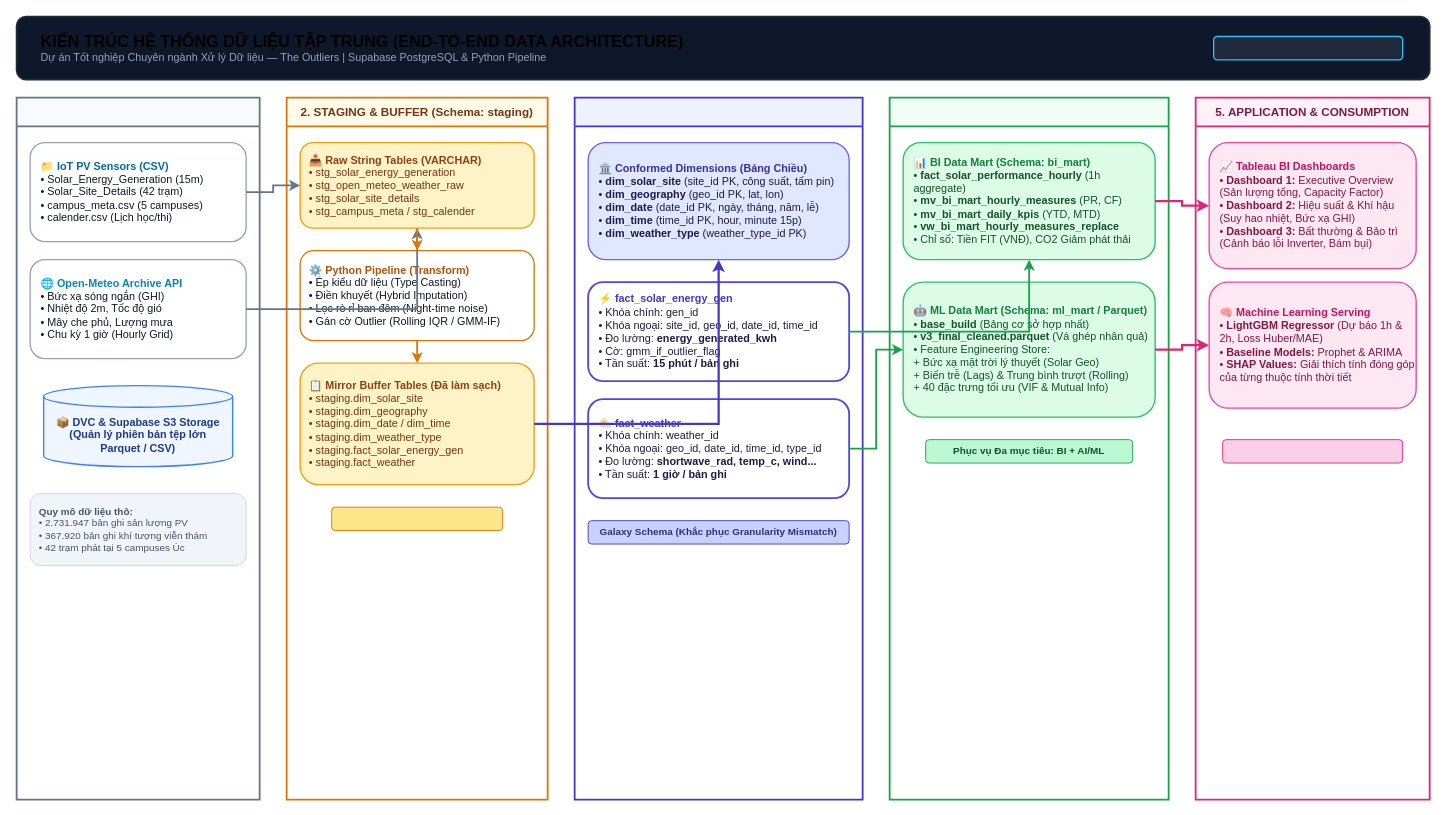
The diagram is 1445 pixels wide and 815 high, and some of its shapes have lost their labels. The shapes that lost their labels are listed below. From the top down, each one's box as (x1, y1, x2, y2) in pixels, then its label:
(1213, 35, 1403, 60): GALAXY SCHEMA & DUAL MARTS
(15, 96, 260, 800): 1. RAW DATA (Nguồn Dữ Liệu Thô)
(573, 96, 863, 800): 3. DATA WAREHOUSE (Schema: datawarehouse)
(888, 96, 1169, 800): 4. DATA MART LAYER (Schema: bi_mart & ml_mart)
(1222, 439, 1403, 463): Giám sát & Bảo trì dự đoán
(331, 506, 503, 531): QA/QC & Safe Transaction
